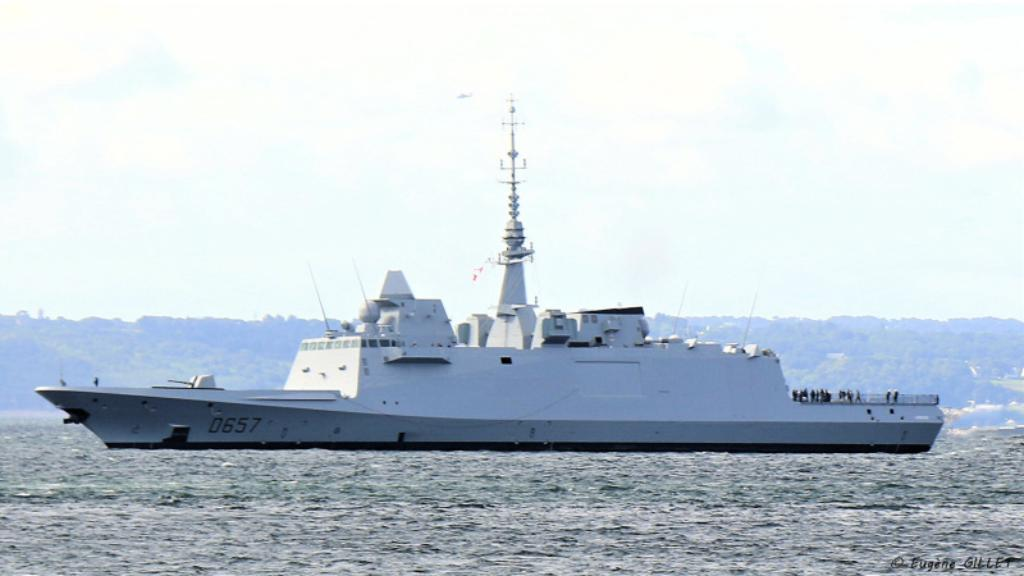Warship: (32, 91, 946, 452)
